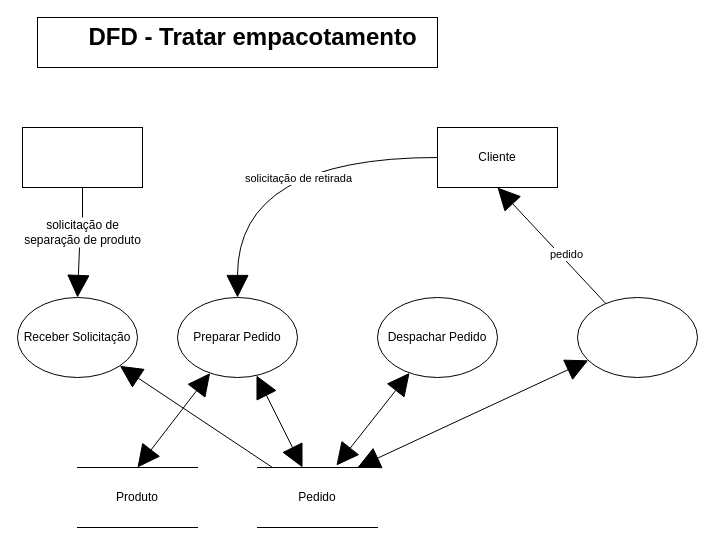
The diagram is 715 pixels wide and 545 high, and some of its shapes have lost their labels. Here are the shapes that lost their labels. From the top down, the box of each, then its label:
(22, 126, 142, 188): Venda
(576, 296, 698, 378): Entregar Pedido
